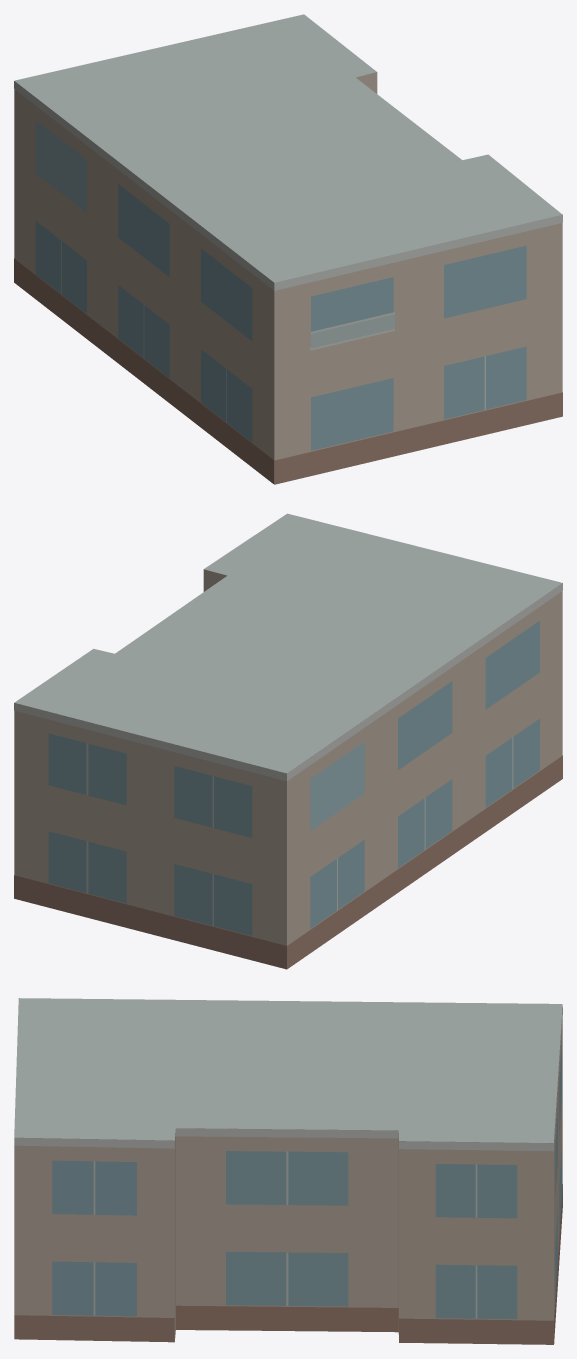
File: survey-upis-32654895.glb
3 renders of one model, top to bottom at view 1: azimuth 30°, elevation 25°; view 2: azimuth 150°, elevation 25°; view 3: azimuth 270°, elevation 25°, orthographic. The views are drawn at different scales.
Visible parts, largest first — view 1: survey-upis-32654895.tmp; view 2: survey-upis-32654895.tmp; view 3: survey-upis-32654895.tmp.
Part boxes in pixels (left/top/right/bottom): survey-upis-32654895.tmp: left=14, top=14, right=562, bottom=484; survey-upis-32654895.tmp: left=14, top=513, right=562, bottom=969; survey-upis-32654895.tmp: left=14, top=998, right=562, bottom=1344.
Bounding box in the file's own units: 9.42 × 6.1 × 15.05.
